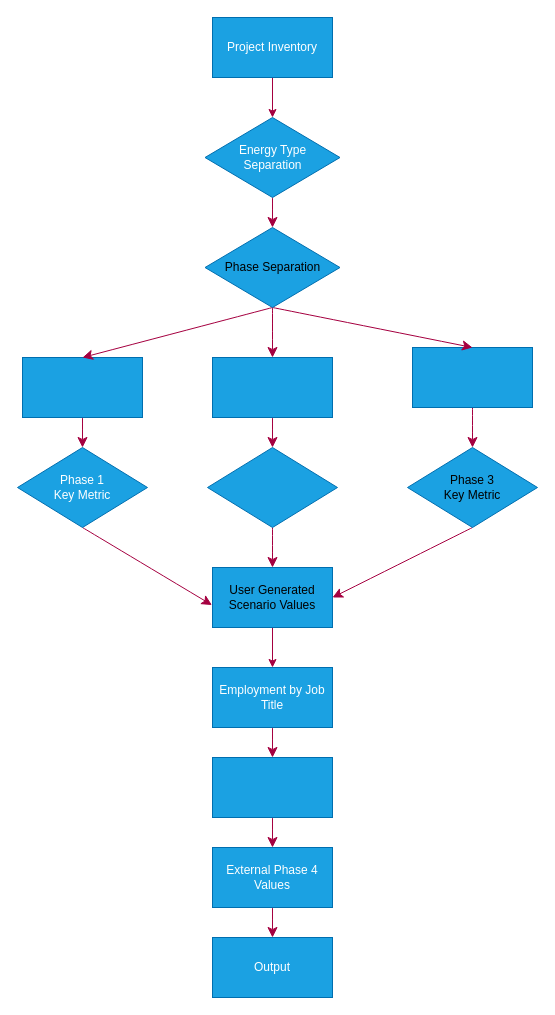
Some shapes in this 555 by 1015 pixel diagram are drawn without their labels. Each missing label, with the centre of its shape:
"Employment by NOC Code" goes at (x=272, y=787).
"Phase 1" goes at (x=82, y=387).
"Phase 2" goes at (x=272, y=387).
"Phase 3" goes at (x=472, y=377).
"Phaser 2 Key Metric" goes at (x=272, y=487).
